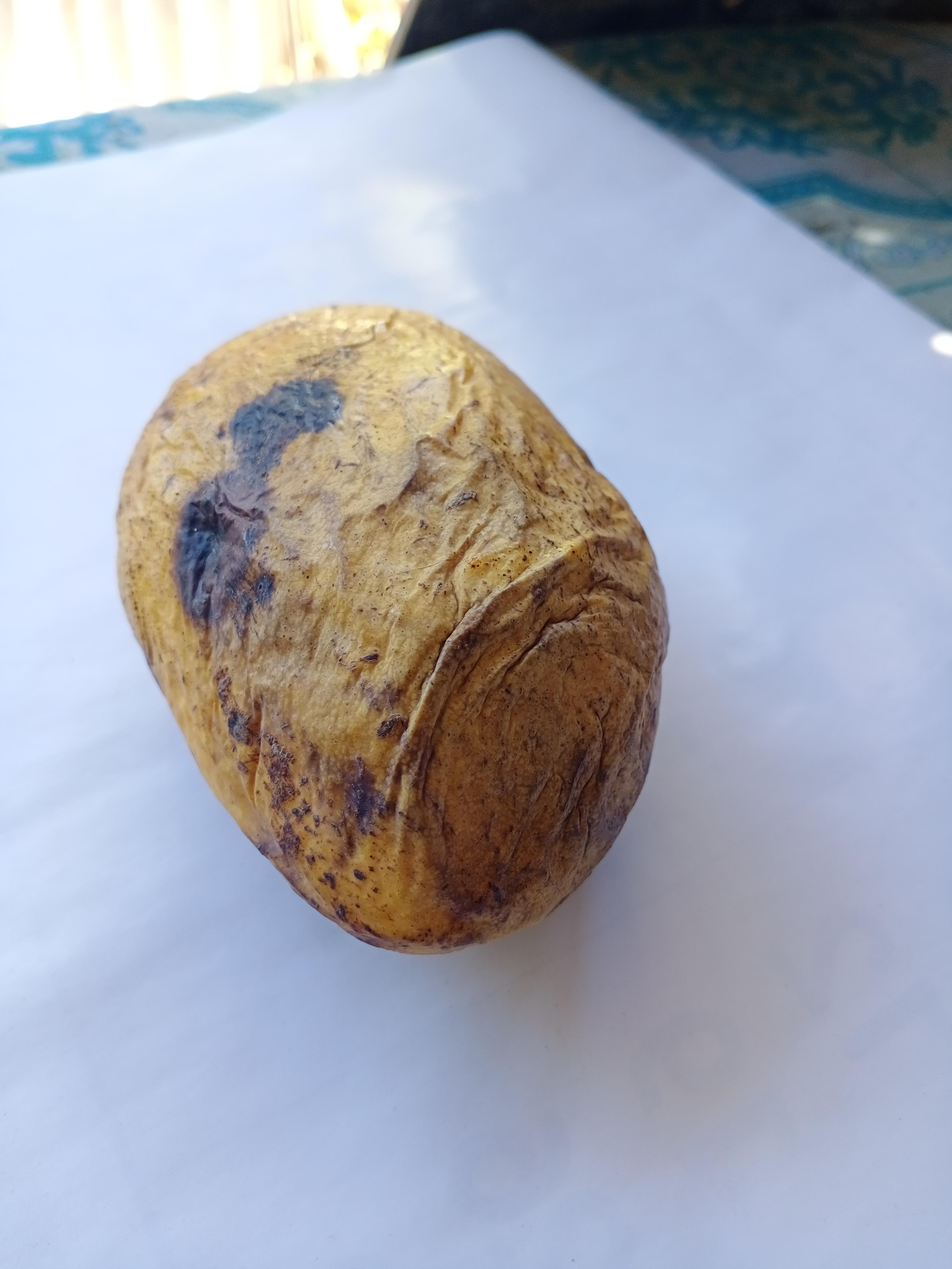Mango Overripe: (77, 261, 675, 969)
